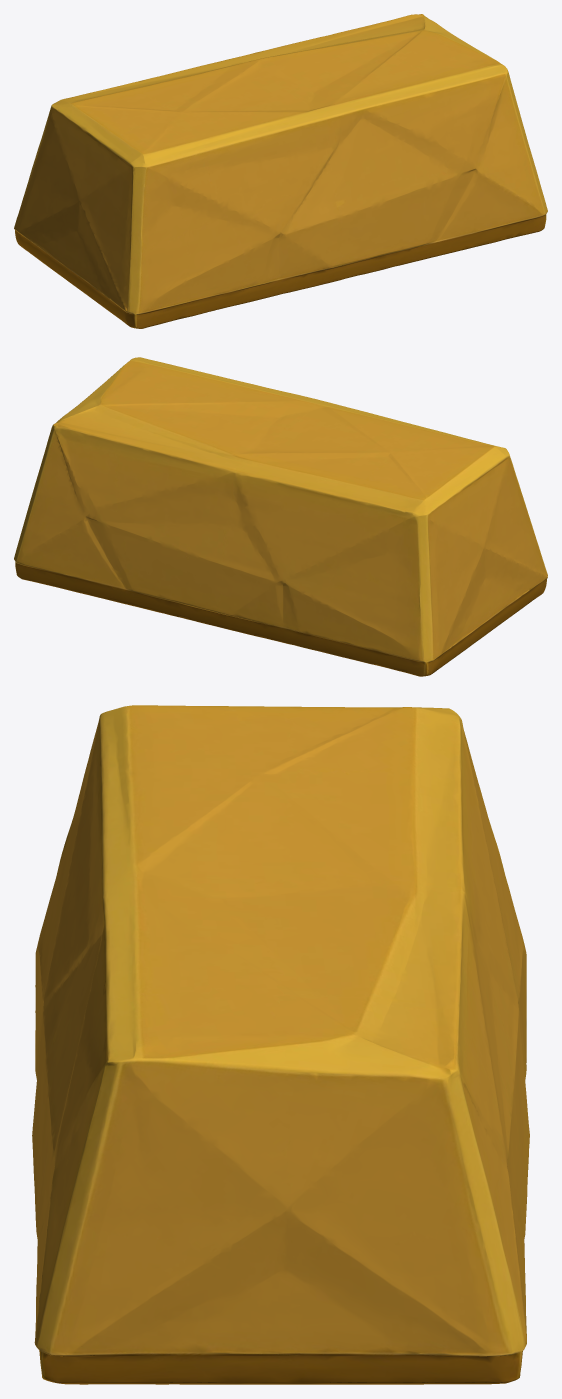
File: gold_1k_real.glb
The picture shows the model from 3 angles, top to bottom: view 1: azimuth 30°, elevation 25°; view 2: azimuth 150°, elevation 25°; view 3: azimuth 270°, elevation 25°; orthographic projection. The views are drawn at different scales.
Visible parts, largest first — view 1: tripo_node_e465255e-fc8f-4abe-8dcb-2f736874d7d6; view 2: tripo_node_e465255e-fc8f-4abe-8dcb-2f736874d7d6; view 3: tripo_node_e465255e-fc8f-4abe-8dcb-2f736874d7d6.
Part boxes in pixels (x1=…): tripo_node_e465255e-fc8f-4abe-8dcb-2f736874d7d6: x1=14, y1=14, x2=547, y2=328; tripo_node_e465255e-fc8f-4abe-8dcb-2f736874d7d6: x1=14, y1=357, x2=547, y2=676; tripo_node_e465255e-fc8f-4abe-8dcb-2f736874d7d6: x1=32, y1=705, x2=529, y2=1384.
Size of the model in its own units: 1 by 0.3572 by 0.5109.
Materials: 1 (1 with a texture image).
